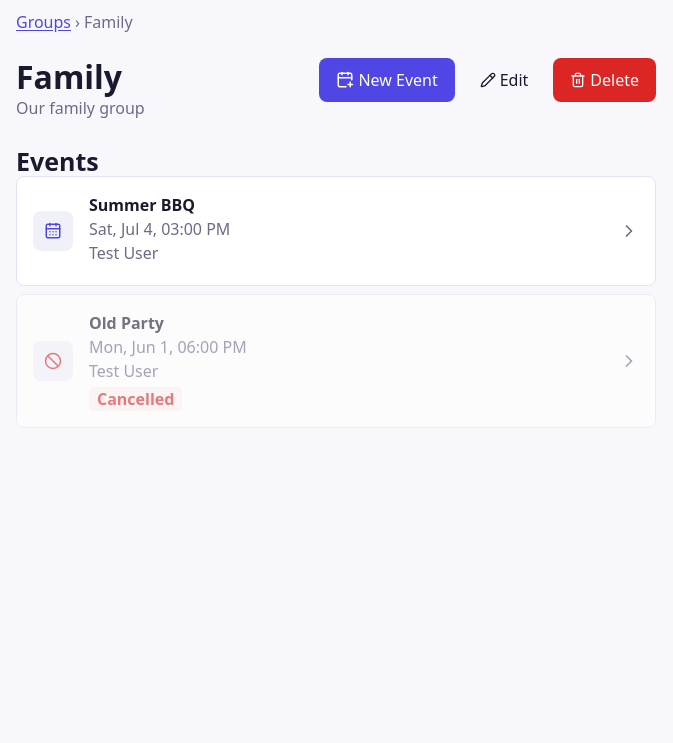
Scenario: GroupDetail › saves the edited group and updates the heading
The width and height of the screenshot is (673, 743).
Click the button with aria-label "edit group". click: x=504, y=80
box: top-left (463, 58), bottom-right (545, 102)
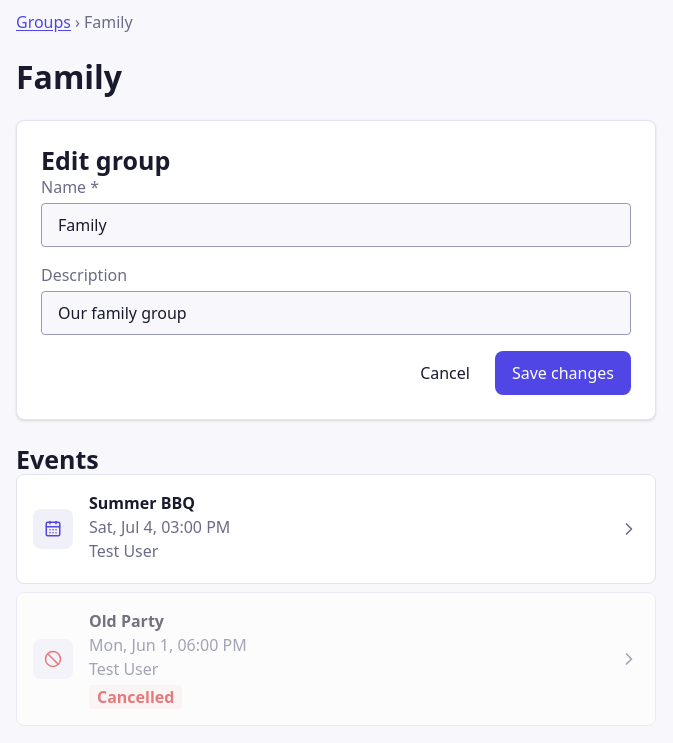
Replace the text in the field labelled "Name *" with "Updated Family". click: x=336, y=225
box: top-left (41, 203), bottom-right (631, 247)
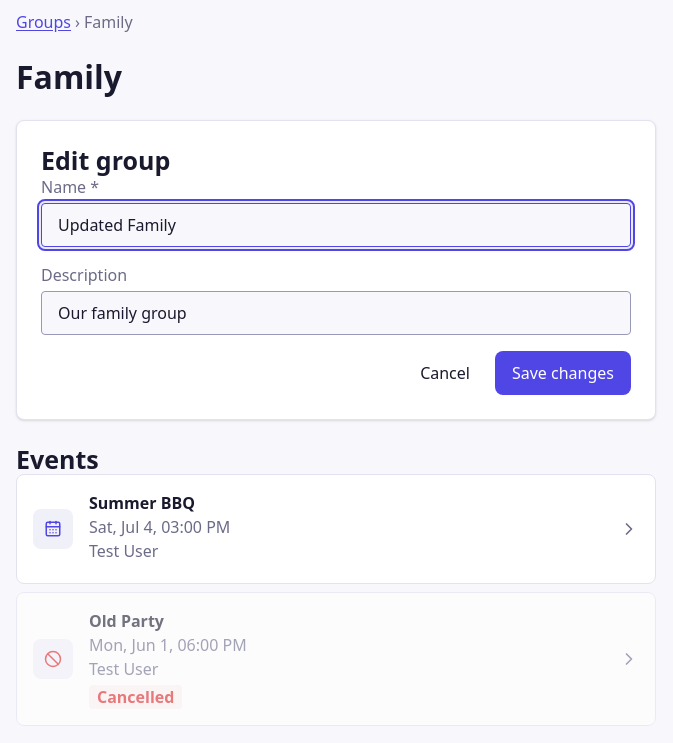
Click the button "Save changes". click: x=563, y=373
box: top-left (495, 351), bottom-right (631, 395)
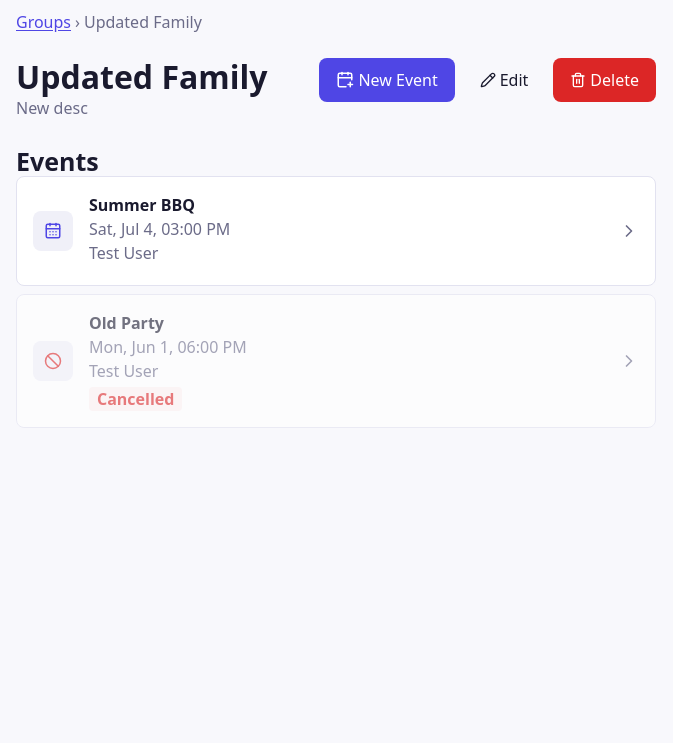
Now the heading "Updated Family" is shown, box top-left (16, 58), bottom-right (268, 96)
